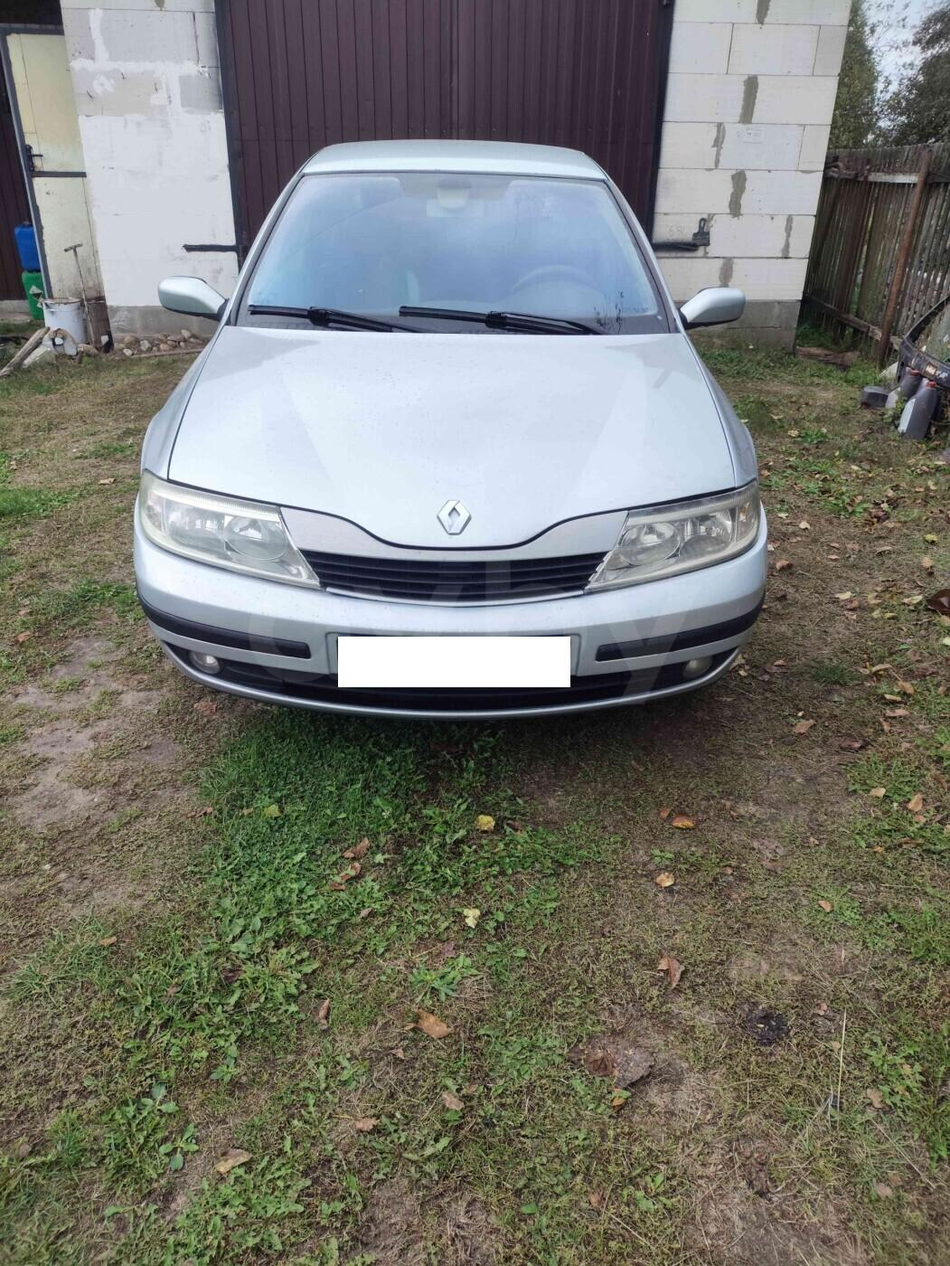Laguna_2001-2005: (134, 140, 767, 718)
